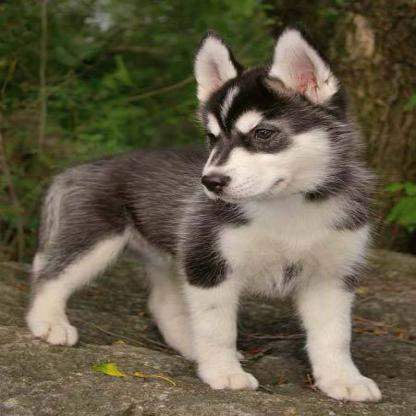husky: (26, 29, 384, 401)
